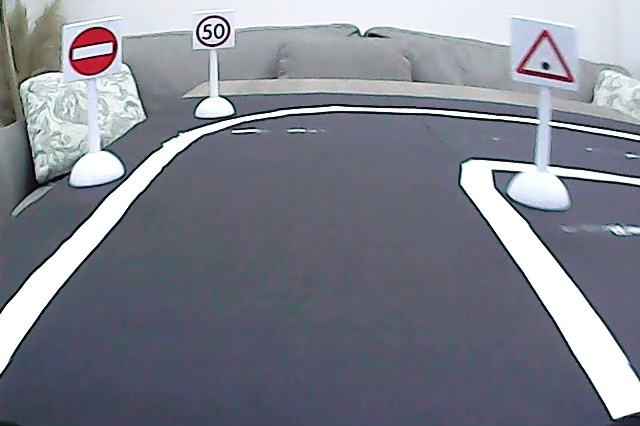do not enter: (64, 22, 120, 79)
green light: (512, 23, 578, 87)
speed limit 50: (194, 12, 233, 48)
